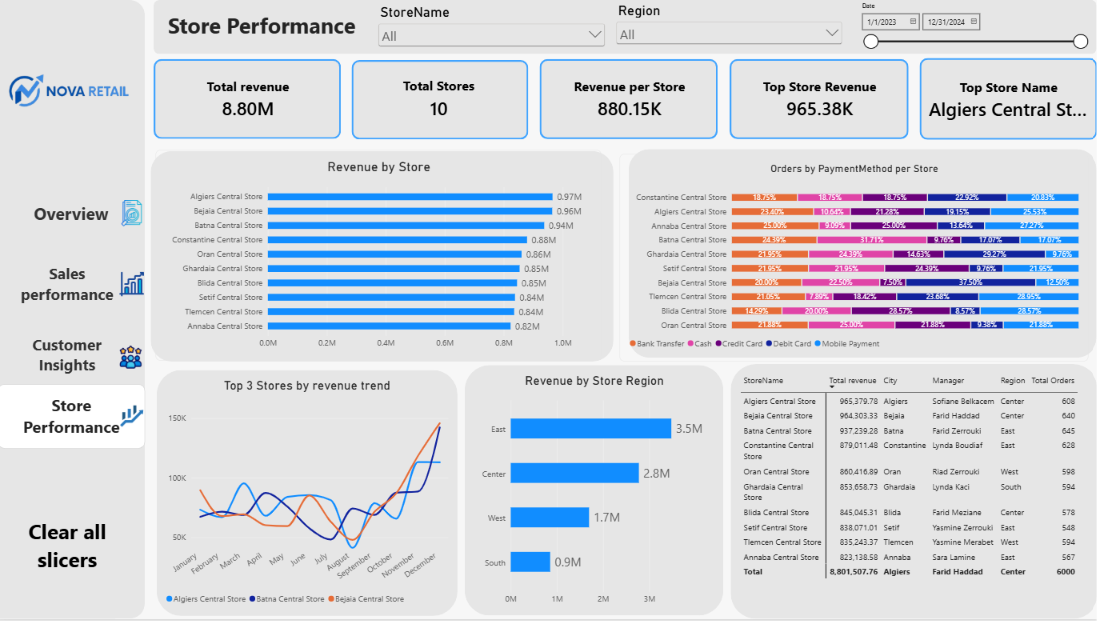

This screenshot's page, from the dashboard's own definition file:
{"tool":"powerbi","page":{"name":"Store Performance","canvas":[1920,1080],"ordinal":3},"visuals":[{"type":"shape","box":[0,0,204.5,1079],"z":0,"group":"g1"},{"type":"shape","box":[1608.4,101.4,311.5,142.7],"z":0,"group":"g5"},{"type":"shape","box":[272.1,102.9,326.7,139.3],"z":0,"group":"g3"},{"type":"shape","box":[945.8,103.1,310.6,139.6],"z":0,"group":"g4"},{"type":"shape","box":[1277.1,103.1,312.2,139.6],"z":0,"group":"g2"},{"type":"shape","box":[617.8,103.8,308.4,138.6],"z":0,"group":"g6"},{"type":"shape","box":[1278.1,635,641.9,444.5],"z":0,"group":"g9"},{"type":"shape","box":[814.5,636.6,451.5,437.1],"z":0,"group":"g8"},{"type":"shape","box":[277.3,645.4,525,429.1],"z":0,"group":"g10"},{"type":"group","id":"g1","title":"Group 3","box":[0,0,256.7,1079],"z":500},{"type":"shape","box":[0,0,256.7,1079],"z":500,"group":"g1"},{"type":"shape","box":[1100.2,259.9,818.1,364.1],"z":500,"group":"g7"},{"type":"shape","box":[266.9,262.7,807.6,367.4],"z":500,"group":"g11"},{"type":"cardVisual","fields":{"Data":["_Measures.Totale revenue"]},"box":[273.8,102.9,326.4,139.6],"z":1000,"group":"g3"},{"type":"cardVisual","fields":{"Data":["_Measures.Total Stores"]},"box":[614,102.9,311.6,138.5],"z":1000,"group":"g6"},{"type":"cardVisual","fields":{"Data":["_Measures.Revenue per Store"]},"box":[947.4,103.1,310.2,139.9],"z":1000,"group":"g4"},{"type":"group","id":"g2","title":"Group 1","box":[1277.1,103.1,312.2,139.5],"z":1000},{"type":"cardVisual","fields":{"Data":["_Measures.Store Rank"]},"box":[1278.7,103.1,311.9,139.9],"z":1000,"group":"g2"},{"type":"cardVisual","fields":{"Data":["_Measures.Top Store Name"]},"box":[1607.8,103.4,311.2,143.4],"z":1000,"group":"g5"},{"type":"hundredPercentStackedBarChart","title":"Orders by PaymentMethod per Store","fields":{"Category":["Stores.StoreName"],"Series":["Sales.PaymentMethod"],"Y":["_Measures.Total Orders"]},"box":[1084.9,268.4,817.7,361.4],"z":1000,"group":"g7"},{"type":"pivotTable","fields":{"Rows":["Stores.StoreName"],"Values":["_Measures.Total revenue","Min(Stores.City)","Min(Stores.Manager)","Min(Stores.Region)","_Measures.Total Orders"]},"box":[1279.9,634.2,638.8,444.9],"z":1000,"group":"g9"},{"type":"clusteredBarChart","title":"Revenue by Store Region","fields":{"Category":["Stores.Region"],"Y":["_Measures.Total revenue"]},"box":[825,637.4,432.1,438.3],"z":1000,"group":"g8"},{"type":"lineChart","title":"Top 3 Stores by revenue trend","fields":{"Category":["Calendar.MonthName"],"Series":["Stores.StoreName"],"Y":["_Measures.Total revenue"]},"box":[277.3,645.4,525,429.1],"z":1000,"group":"g10"},{"type":"group","id":"g3","title":"Group 1","box":[272.1,102.9,327.9,139.5],"z":2000},{"type":"group","id":"g4","title":"Group 1","box":[945.8,103.1,312.2,139.5],"z":3000},{"type":"group","id":"g5","title":"Group 1","box":[1607.8,101.4,312.2,144.8],"z":4000},{"type":"group","id":"g6","title":"Group 1","box":[614,102.9,312.2,139.5],"z":5000},{"type":"actionButton","box":[0,327.7,256.7,89.7],"z":6000},{"type":"actionButton","box":[0,669.9,257.5,112.9],"z":7000},{"type":"actionButton","box":[0,449.5,242.6,90.7],"z":8000},{"type":"actionButton","box":[0,567.7,242.1,102.3],"z":9000},{"type":"image","box":[211,702.9,45.3,45.3],"z":10000},{"type":"image","box":[210.1,600.8,45.3,45.3],"z":11000},{"type":"image","box":[211,472.7,45.3,45.3],"z":12000},{"type":"actionButton","box":[4.5,874.2,232.7,153.6],"z":13000},{"type":"clusteredBarChart","title":"Revenue by Store","fields":{"Category":["Stores.StoreName"],"Y":["_Measures.Total revenue"]},"box":[275.4,261.6,777.5,367.4],"z":14000,"group":"g11"},{"type":"image","box":[204.1,348.8,59.3,45.3],"z":14000},{"type":"shape","box":[272.1,0,1646.5,94.2],"z":15000},{"type":"slicer","title":"Date Range","fields":{"Values":["Calendar.Date"]},"box":[1500.3,3.6,405.3,93.7],"z":16000},{"type":"slicer","fields":{"Values":["Stores.Region"]},"box":[1075.3,3.6,403.5,93.7],"z":17000},{"type":"slicer","fields":{"Values":["Stores.StoreName"]},"box":[659.2,7.2,405.3,86.5],"z":18000},{"type":"textbox","box":[272.1,19.2,376.7,62.8],"z":19000},{"type":"group","id":"g7","title":"Group 5","box":[1084.9,259.9,833.7,369.8],"z":20000},{"type":"group","id":"g8","title":"Group 2","box":[814.5,636.6,451.7,437.8],"z":21000},{"type":"group","id":"g9","title":"Group 4","box":[1278.1,634.2,641.9,445.3],"z":22000},{"type":"group","id":"g10","title":"Group 4","box":[277.3,645.4,525,429.1],"z":23000},{"type":"group","id":"g11","title":"Group 2","box":[266.9,261.6,807.6,366.3],"z":24000},{"type":"image","box":[0,46.8,248.6,221.5],"z":24001}]}

Visuals, with their boxes on the page's 1920x1080 design canvas (x1, y1, x2, y2). These are canvas units, not pixel positions in the 1097x621 screenshot, which may show the page scaled, cropped or inside an application window:
shape: (left=0, top=0, right=204, bottom=1079)
shape: (left=1608, top=101, right=1920, bottom=244)
shape: (left=272, top=103, right=599, bottom=242)
shape: (left=946, top=103, right=1256, bottom=243)
shape: (left=1277, top=103, right=1589, bottom=243)
shape: (left=618, top=104, right=926, bottom=242)
shape: (left=1278, top=635, right=1920, bottom=1080)
shape: (left=814, top=637, right=1266, bottom=1074)
shape: (left=277, top=645, right=802, bottom=1074)
"Group 3" group: (left=0, top=0, right=257, bottom=1079)
shape: (left=0, top=0, right=257, bottom=1079)
shape: (left=1100, top=260, right=1918, bottom=624)
shape: (left=267, top=263, right=1074, bottom=630)
cardVisual - _Measures.Totale revenue: (left=274, top=103, right=600, bottom=242)
cardVisual - _Measures.Total Stores: (left=614, top=103, right=926, bottom=241)
cardVisual - _Measures.Revenue per Store: (left=947, top=103, right=1258, bottom=243)
"Group 1" group: (left=1277, top=103, right=1589, bottom=243)
cardVisual - _Measures.Store Rank: (left=1279, top=103, right=1591, bottom=243)
cardVisual - _Measures.Top Store Name: (left=1608, top=103, right=1919, bottom=247)
"Orders by PaymentMethod per Store" hundredPercentStackedBarChart: (left=1085, top=268, right=1903, bottom=630)
pivotTable - Stores.StoreName x _Measures.Total revenue: (left=1280, top=634, right=1919, bottom=1079)
"Revenue by Store Region" clusteredBarChart: (left=825, top=637, right=1257, bottom=1076)
"Top 3 Stores by revenue trend" lineChart: (left=277, top=645, right=802, bottom=1074)
"Group 1" group: (left=272, top=103, right=600, bottom=242)
"Group 1" group: (left=946, top=103, right=1258, bottom=243)
"Group 1" group: (left=1608, top=101, right=1920, bottom=246)
"Group 1" group: (left=614, top=103, right=926, bottom=242)
actionButton: (left=0, top=328, right=257, bottom=417)
actionButton: (left=0, top=670, right=258, bottom=783)
actionButton: (left=0, top=450, right=243, bottom=540)
actionButton: (left=0, top=568, right=242, bottom=670)
image: (left=211, top=703, right=256, bottom=748)
image: (left=210, top=601, right=255, bottom=646)
image: (left=211, top=473, right=256, bottom=518)
actionButton: (left=4, top=874, right=237, bottom=1028)
"Revenue by Store" clusteredBarChart: (left=275, top=262, right=1053, bottom=629)
image: (left=204, top=349, right=263, bottom=394)
shape: (left=272, top=0, right=1919, bottom=94)
"Date Range" slicer: (left=1500, top=4, right=1906, bottom=97)
slicer - Stores.Region: (left=1075, top=4, right=1479, bottom=97)
slicer - Stores.StoreName: (left=659, top=7, right=1064, bottom=94)
textbox: (left=272, top=19, right=649, bottom=82)
"Group 5" group: (left=1085, top=260, right=1919, bottom=630)
"Group 2" group: (left=814, top=637, right=1266, bottom=1074)
"Group 4" group: (left=1278, top=634, right=1920, bottom=1080)
"Group 4" group: (left=277, top=645, right=802, bottom=1074)
"Group 2" group: (left=267, top=262, right=1074, bottom=628)
image: (left=0, top=47, right=249, bottom=268)
